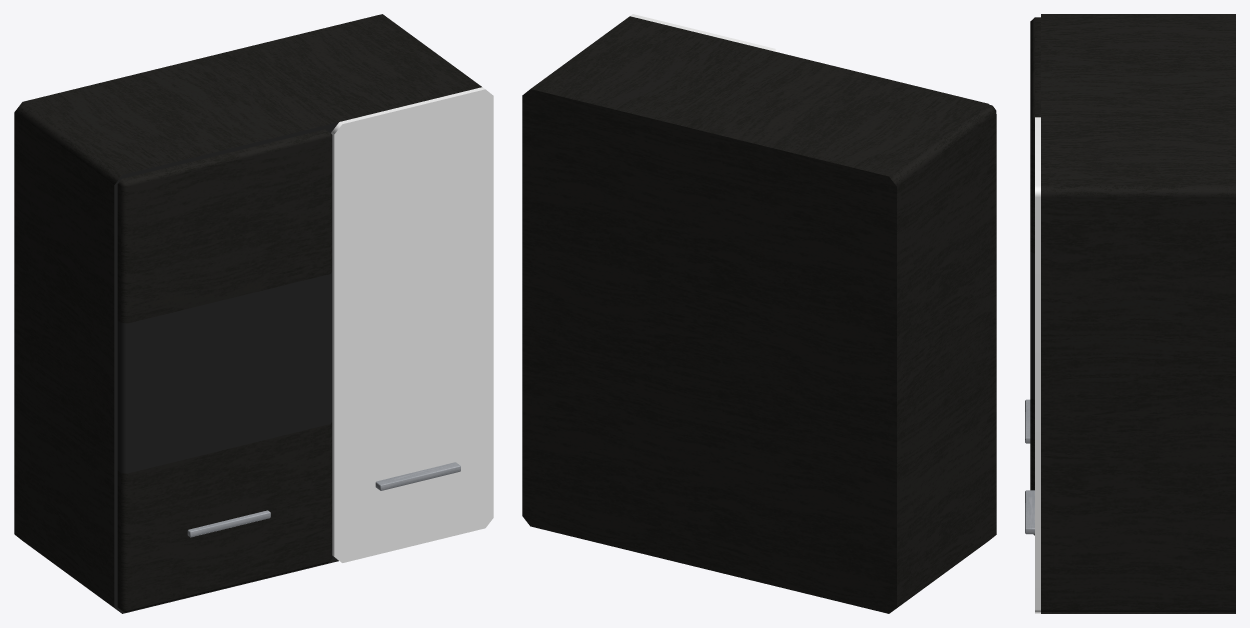
File: wall_cabinet_001.fbx
3 views of the same model, side by side, from view 1: azimuth 30°, elevation 25°; view 2: azimuth 150°, elevation 25°; view 3: azimuth 270°, elevation 25° (orthographic). The views are drawn at different scales.
Visible parts, largest first — view 1: wall_cabinet_001; view 2: wall_cabinet_001; view 3: wall_cabinet_001.
Boxes of the visible parts, x1,y1,x2,y2 form: wall_cabinet_001: [14, 14, 493, 613]; wall_cabinet_001: [522, 14, 996, 613]; wall_cabinet_001: [1025, 14, 1235, 613].
Bounding box in the file's own units: 151 × 75.23 × 169.
